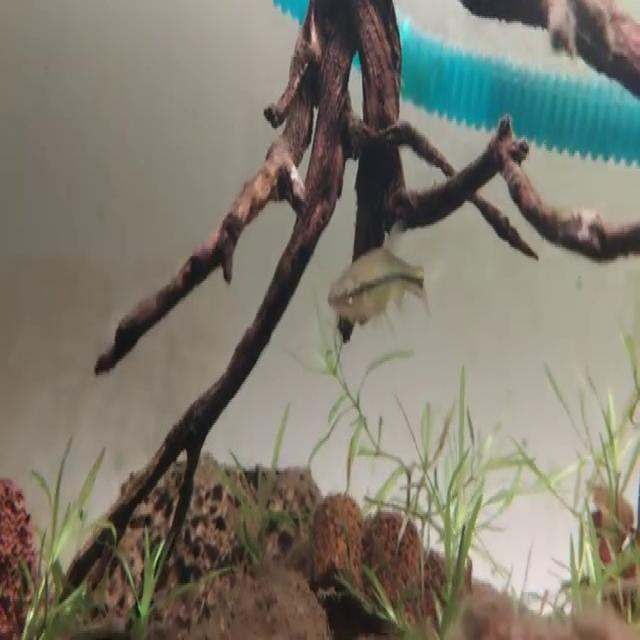Cakil Baligi: (330, 216, 436, 327)
